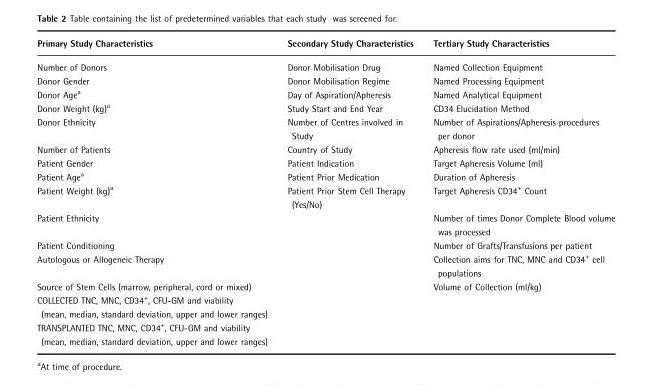table: (36, 36, 614, 346)
table column: (36, 36, 276, 346), (422, 36, 614, 346), (276, 36, 422, 346)
table column header: (36, 36, 614, 54)
table projected row header: (36, 292, 614, 319)
table row: (36, 250, 614, 279), (36, 182, 614, 210), (36, 114, 614, 141), (36, 210, 614, 237), (36, 292, 614, 319), (36, 319, 614, 346), (36, 54, 614, 73), (36, 36, 614, 54), (36, 86, 614, 100), (36, 100, 614, 114), (36, 141, 614, 155), (36, 168, 614, 182), (36, 73, 614, 86), (36, 155, 614, 168), (36, 237, 614, 250), (36, 279, 614, 292)
